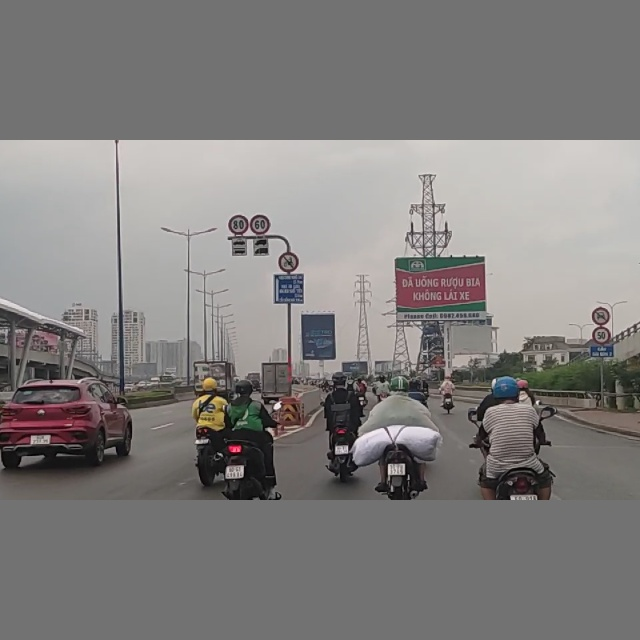P.103a: (595, 302, 612, 321)
P.104: (278, 253, 299, 271)
P.127*50: (593, 327, 609, 344)
P.127*60: (251, 214, 271, 234)
P.127*80: (228, 214, 250, 235)
